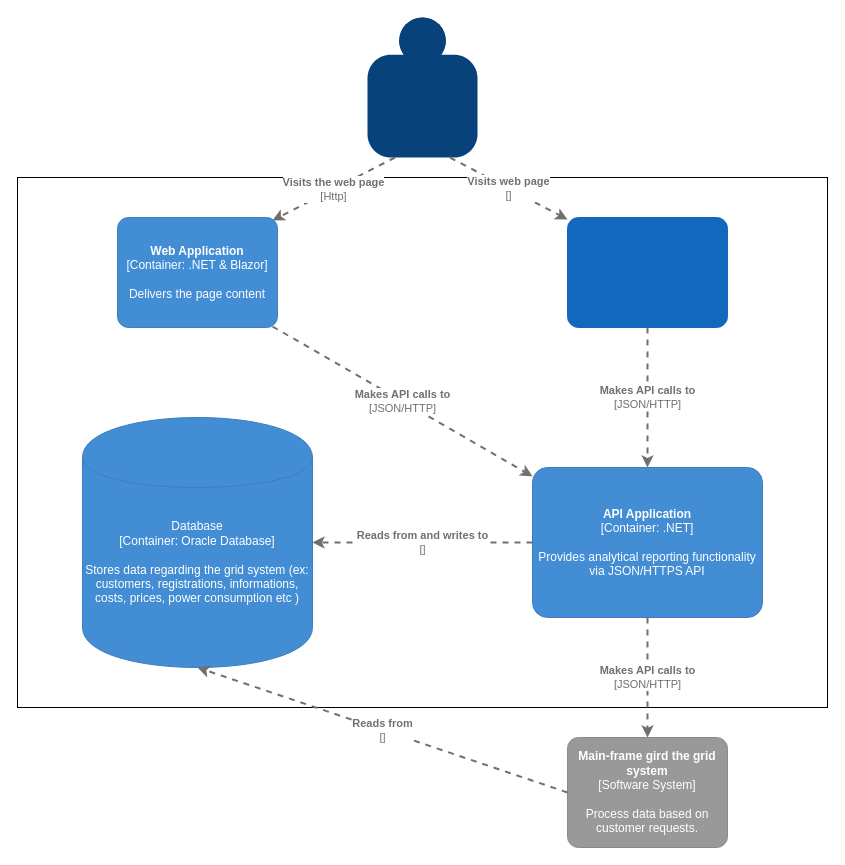
Image size: 845x865. Some labels were removed from this diagram. The box of each missing label's shape, as (x1, y1, x2, y2) in pixels:
Client [%c4Type%] Electrical company: (367, 17, 477, 157)
Mobile App [Software System] Converts desktop-view page into mobile-page: (566, 216, 728, 328)
